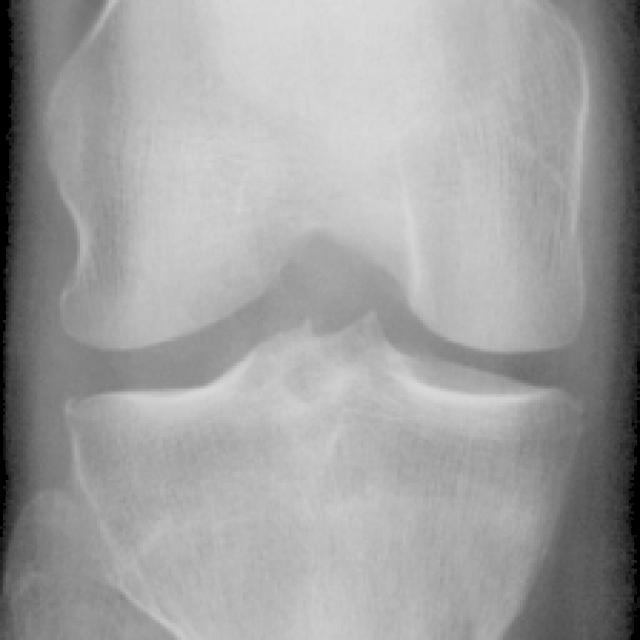femur: (43, 0, 589, 354)
tibia: (69, 314, 574, 637)
